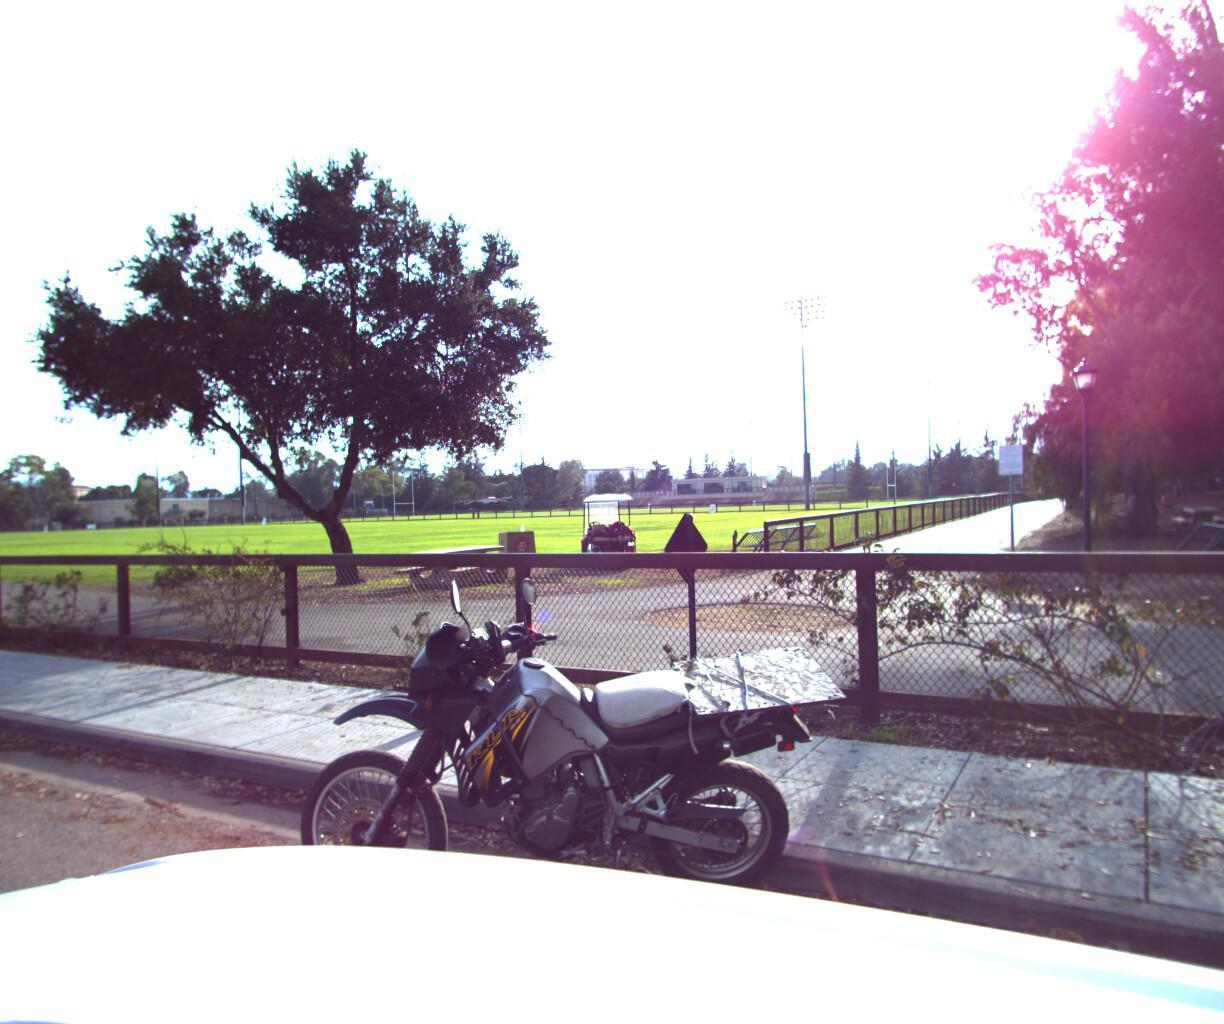motorcycle: (215, 537, 881, 1024)
